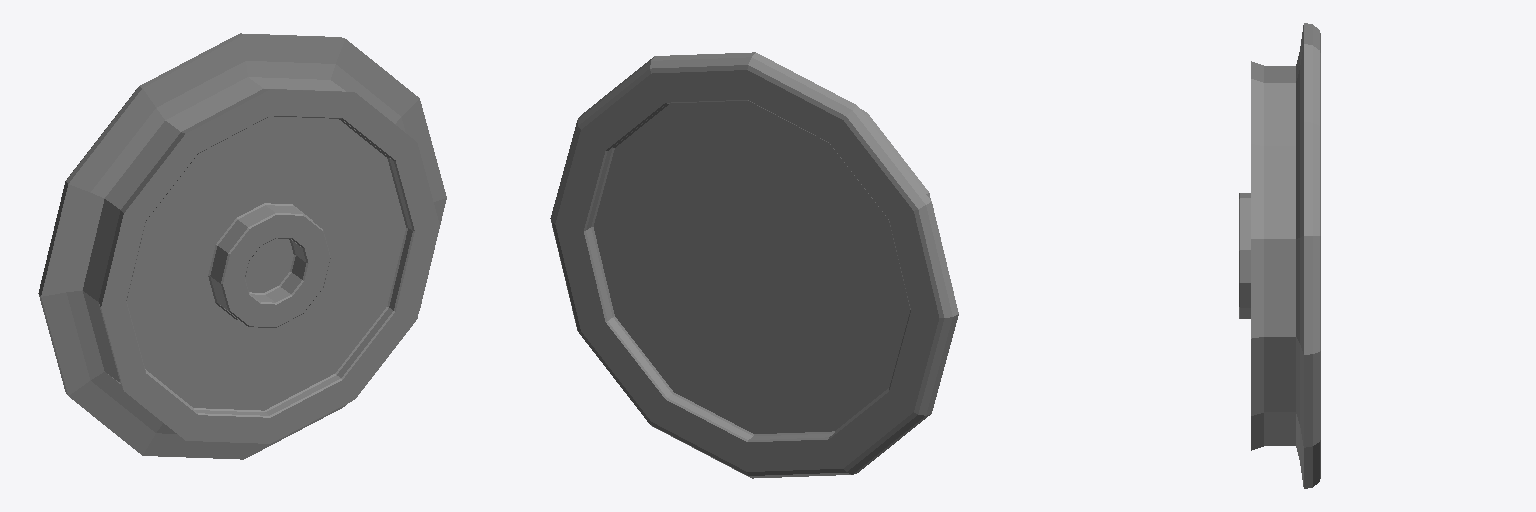
File: right_back_small_wheel.obj
3 renders of one model, left to right at view 1: azimuth 30°, elevation 25°; view 2: azimuth 150°, elevation 25°; view 3: azimuth 270°, elevation 25°, orthographic.
Visible parts, largest first — view 1: right_back_small_wheel; view 2: right_back_small_wheel; view 3: right_back_small_wheel.
Part boxes in pixels (x1,y1,x2,y2): right_back_small_wheel: (38,33,446,459); right_back_small_wheel: (550,52,958,478); right_back_small_wheel: (1239,23,1320,488).
Bounding box in the file's own units: 8.17 × 8.17 × 1.44.